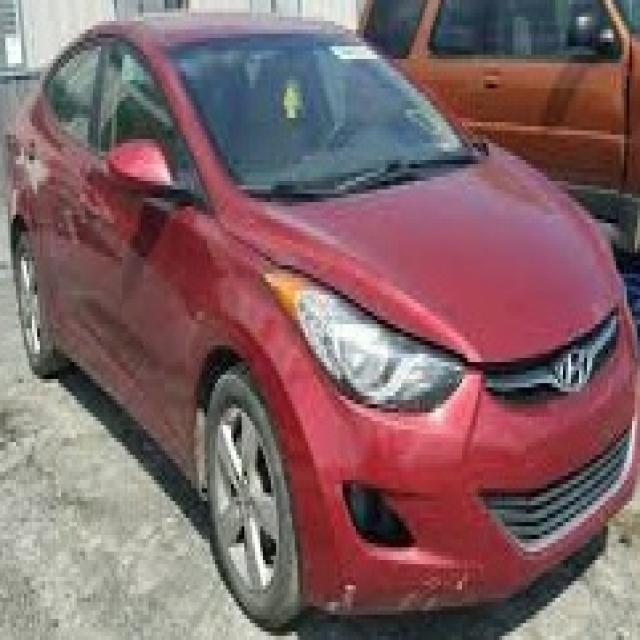maroon: (12, 16, 640, 640)
